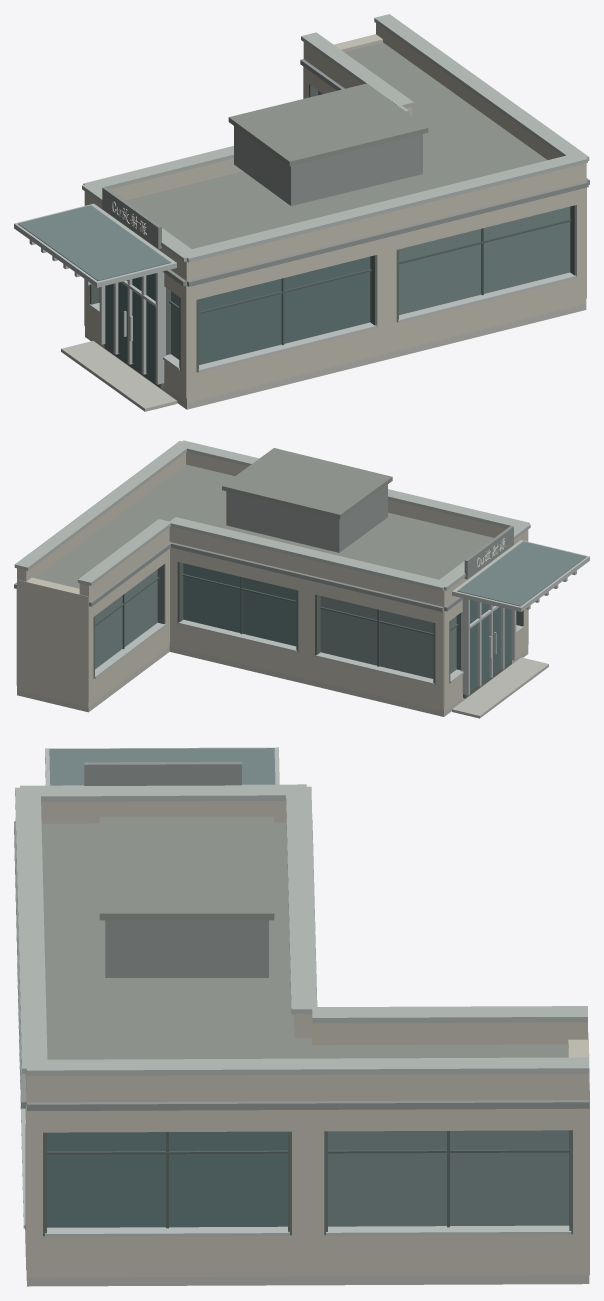
The model's file is mapped_1135842417.glb.
3 renders of one model, top to bottom at view 1: azimuth 30°, elevation 25°; view 2: azimuth 150°, elevation 25°; view 3: azimuth 270°, elevation 25°, orthographic. The views are drawn at different scales.
Parts seen in each view (by area): view 1: mapped_1135842417_ServiceWarm, mapped_1135842417_FacultyRoof, mapped_1135842417_WindowGlassLight, mapped_1135842417_WindowGlass, mapped_1135842417_Teaching5TileJoint, mapped_1135842417_FacultyDarkPanel, mapped_1135842417_WindowAluminium, mapped_1135842417_EntryStone, mapped_1135842417_WindowReveal, mapped_1135842417_WindowRubber; view 2: mapped_1135842417_ServiceWarm, mapped_1135842417_FacultyRoof, mapped_1135842417_WindowGlassLight, mapped_1135842417_Teaching5TileJoint, mapped_1135842417_FacultyDarkPanel, mapped_1135842417_WindowGlass, mapped_1135842417_WindowAluminium, mapped_1135842417_EntryStone, mapped_1135842417_WindowReveal, mapped_1135842417_WindowRubber; view 3: mapped_1135842417_ServiceWarm, mapped_1135842417_FacultyRoof, mapped_1135842417_Teaching5TileJoint, mapped_1135842417_WindowGlassLight, mapped_1135842417_WindowGlass, mapped_1135842417_FacultyDarkPanel, mapped_1135842417_WindowAluminium, mapped_1135842417_EntryStone, mapped_1135842417_WindowRubber, mapped_1135842417_WindowReveal.
Part boxes in pixels (bbox=[...]): mapped_1135842417_ServiceWarm: bbox=[84, 23, 586, 403]; mapped_1135842417_FacultyRoof: bbox=[126, 42, 547, 248]; mapped_1135842417_WindowGlassLight: bbox=[18, 91, 570, 359]; mapped_1135842417_WindowGlass: bbox=[105, 256, 370, 379]; mapped_1135842417_Teaching5TileJoint: bbox=[82, 14, 589, 262]; mapped_1135842417_FacultyDarkPanel: bbox=[102, 59, 589, 286]; mapped_1135842417_WindowAluminium: bbox=[14, 203, 576, 384]; mapped_1135842417_EntryStone: bbox=[61, 304, 586, 411]; mapped_1135842417_WindowReveal: bbox=[90, 84, 576, 388]; mapped_1135842417_WindowRubber: bbox=[169, 219, 571, 345]; mapped_1135842417_ServiceWarm: bbox=[16, 452, 528, 711]; mapped_1135842417_FacultyRoof: bbox=[35, 448, 493, 588]; mapped_1135842417_WindowGlassLight: bbox=[95, 541, 586, 678]; mapped_1135842417_Teaching5TileJoint: bbox=[14, 440, 530, 590]; mapped_1135842417_FacultyDarkPanel: bbox=[14, 484, 513, 611]; mapped_1135842417_WindowGlass: bbox=[183, 563, 510, 690]; mapped_1135842417_WindowAluminium: bbox=[94, 540, 589, 695]; mapped_1135842417_EntryStone: bbox=[17, 646, 548, 718]; mapped_1135842417_WindowReveal: bbox=[93, 562, 523, 698]; mapped_1135842417_WindowRubber: bbox=[95, 574, 458, 666]; mapped_1135842417_ServiceWarm: bbox=[25, 800, 589, 1277]; mapped_1135842417_FacultyRoof: bbox=[41, 816, 568, 1059]; mapped_1135842417_Teaching5TileJoint: bbox=[15, 784, 589, 1075]; mapped_1135842417_WindowGlassLight: bbox=[49, 748, 568, 1226]; mapped_1135842417_WindowGlass: bbox=[47, 1131, 287, 1227]; mapped_1135842417_FacultyDarkPanel: bbox=[14, 761, 589, 1110]; mapped_1135842417_WindowAluminium: bbox=[17, 747, 571, 1237]; mapped_1135842417_EntryStone: bbox=[26, 1272, 589, 1286]; mapped_1135842417_WindowRubber: bbox=[47, 1131, 569, 1228]; mapped_1135842417_WindowReveal: bbox=[25, 1124, 572, 1236].
Bounding box in the file's own units: 14.8 × 5.68 × 10.56.
